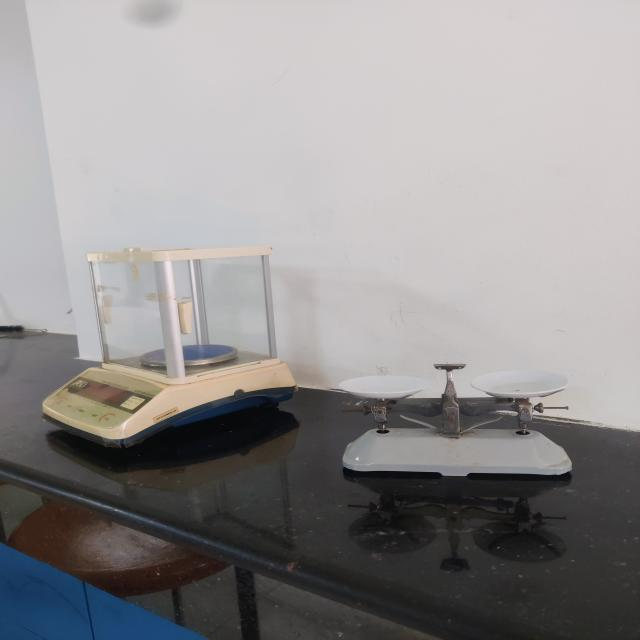Mechanical_Balance_Scale: (322, 333, 588, 495)
Precision_Weight_Scale: (24, 234, 306, 454)
